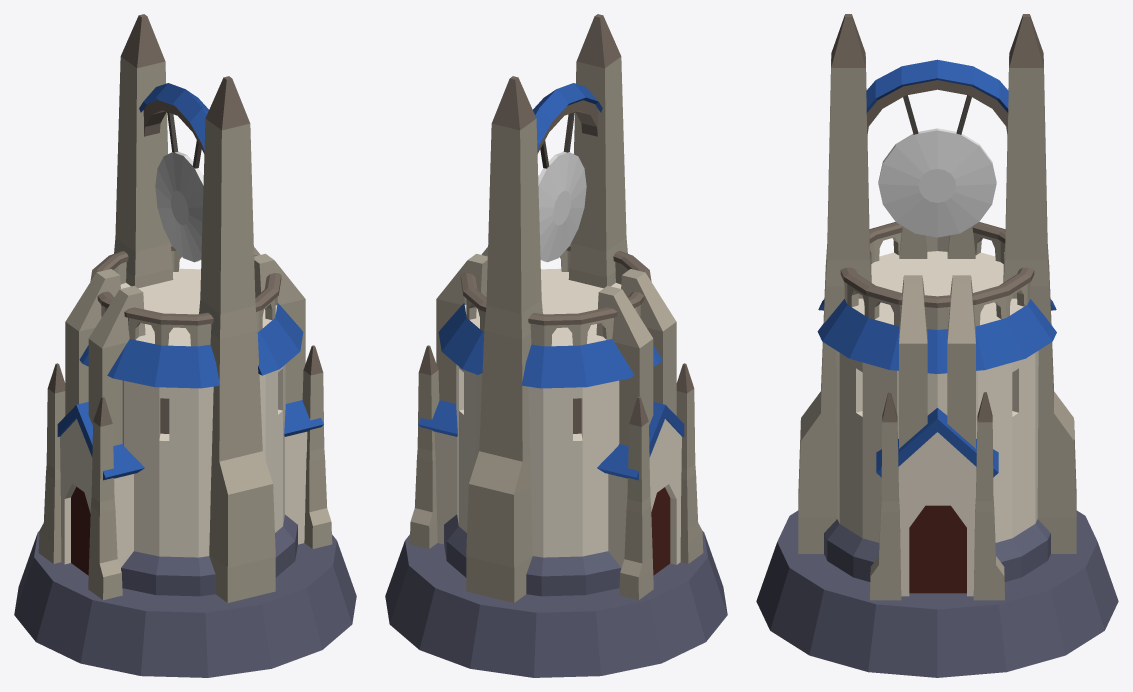
Rendered from new Priest tower.fbx.
3 renders of one model, left to right at view 1: azimuth 30°, elevation 25°; view 2: azimuth 150°, elevation 25°; view 3: azimuth 270°, elevation 25°, orthographic. The views are drawn at different scales.
Visible parts, largest first — view 1: Cylinder.012, Cylinder.013; view 2: Cylinder.012, Cylinder.013; view 3: Cylinder.012, Cylinder.013.
Part boxes in pixels (x1,y1,x2,y2): Cylinder.012: (14,14,356,677); Cylinder.013: (155,151,203,262); Cylinder.012: (385,14,727,677); Cylinder.013: (538,151,586,262); Cylinder.012: (756,14,1118,677); Cylinder.013: (878,128,996,237).
Bounding box in the file's own units: 1000 × 1784 × 1000.
